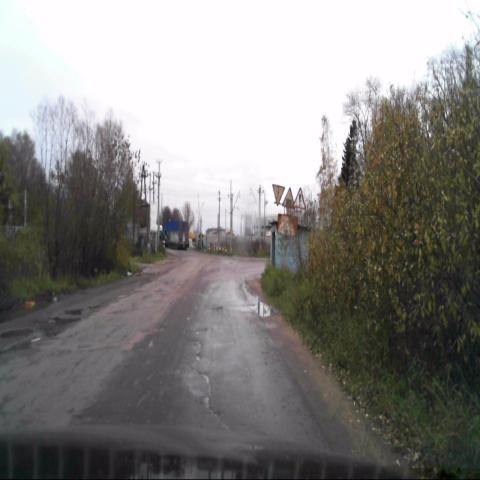1_33: (293, 187, 306, 210)
